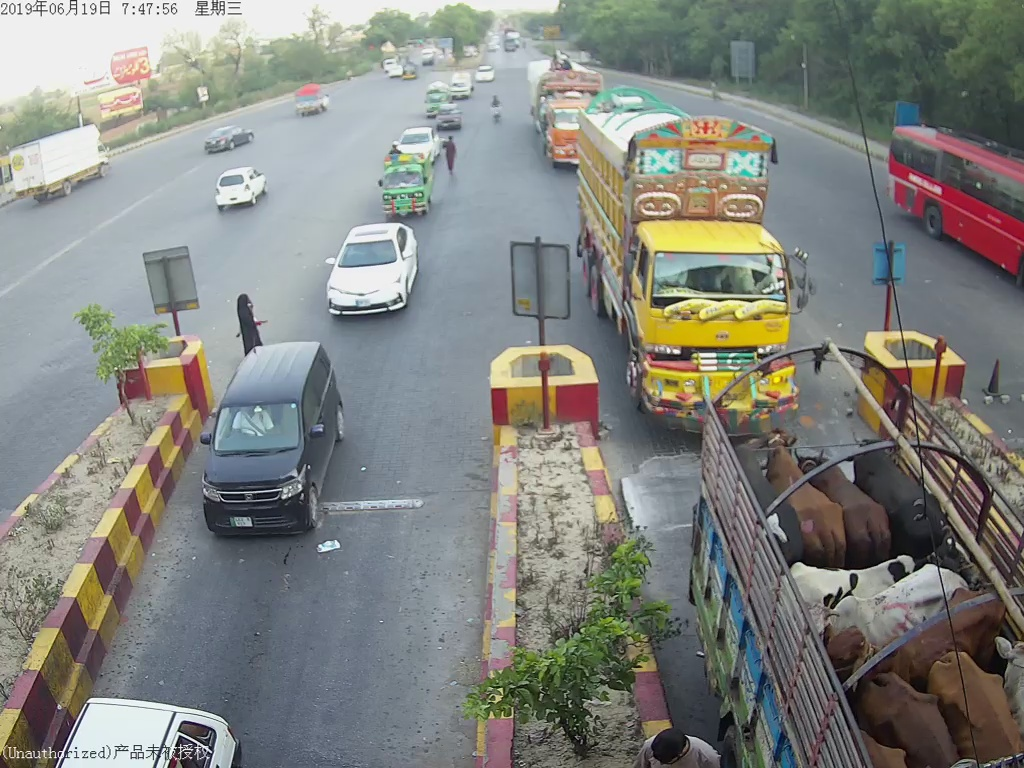Cat-1: (201, 334, 351, 538), (322, 219, 422, 313), (372, 152, 441, 219)
Cat-4: (582, 94, 805, 430)
Cat-5: (524, 52, 596, 160)
